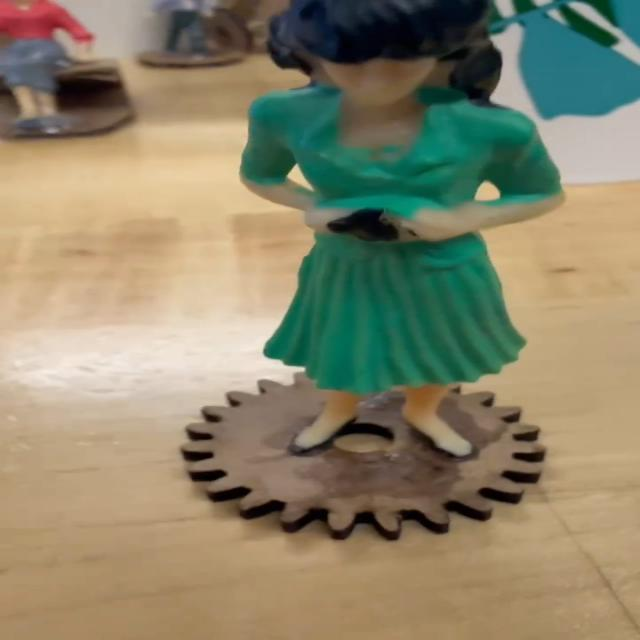Authorized: (185, 0, 611, 494)
